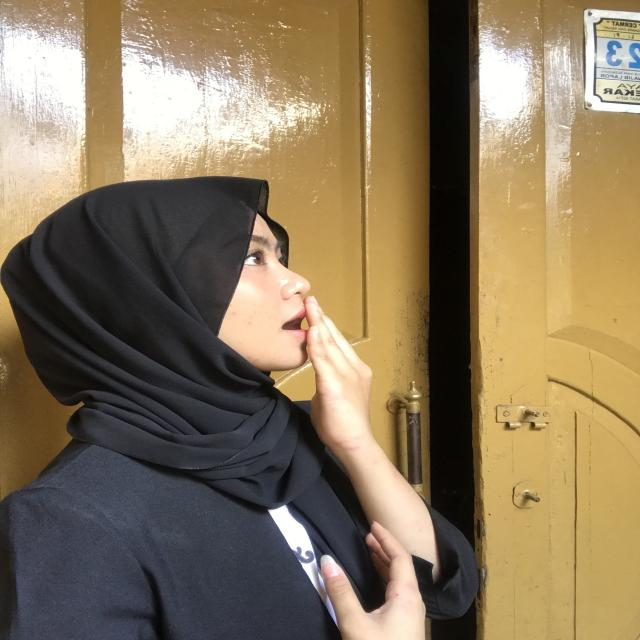ngantuk: (273, 282, 400, 483)
